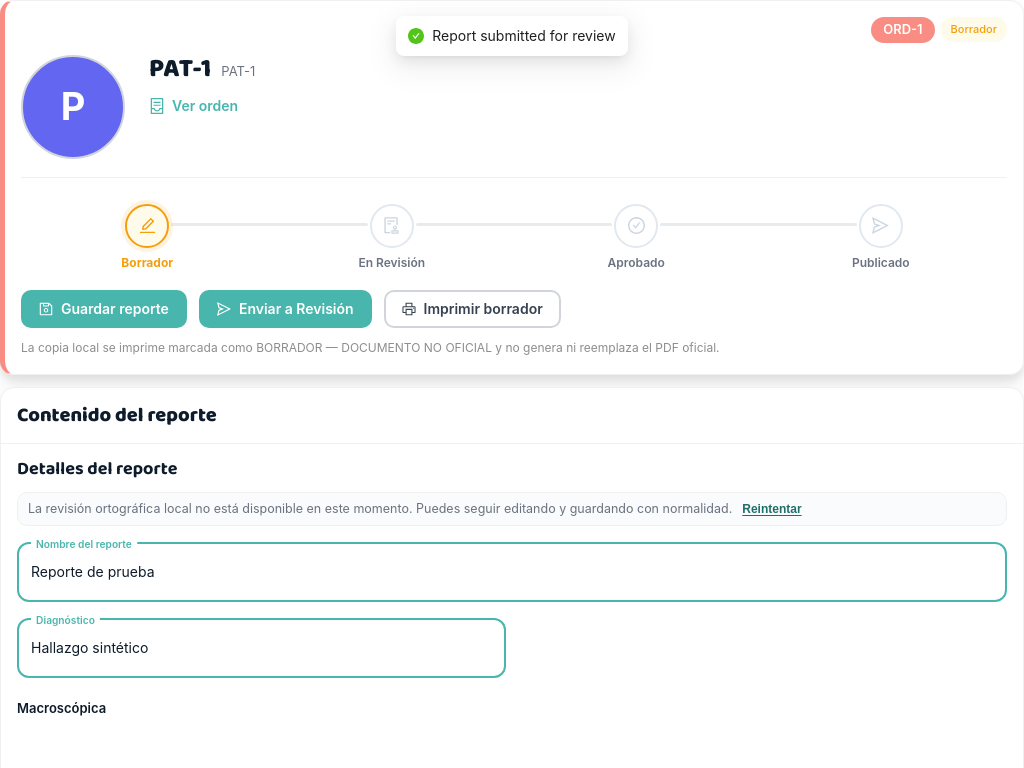
Test case: R4 — the editor re-reads the report after submitting for review › shows the report as IN_REVIEW even if the refresh read fails
The image size is (1024, 768).
Check: the field showing "Reporte de prueba" is shown, box [19, 551, 1005, 593]
Click the button "Enviar a Revisión". click: click(285, 309)
box: [199, 290, 372, 328]
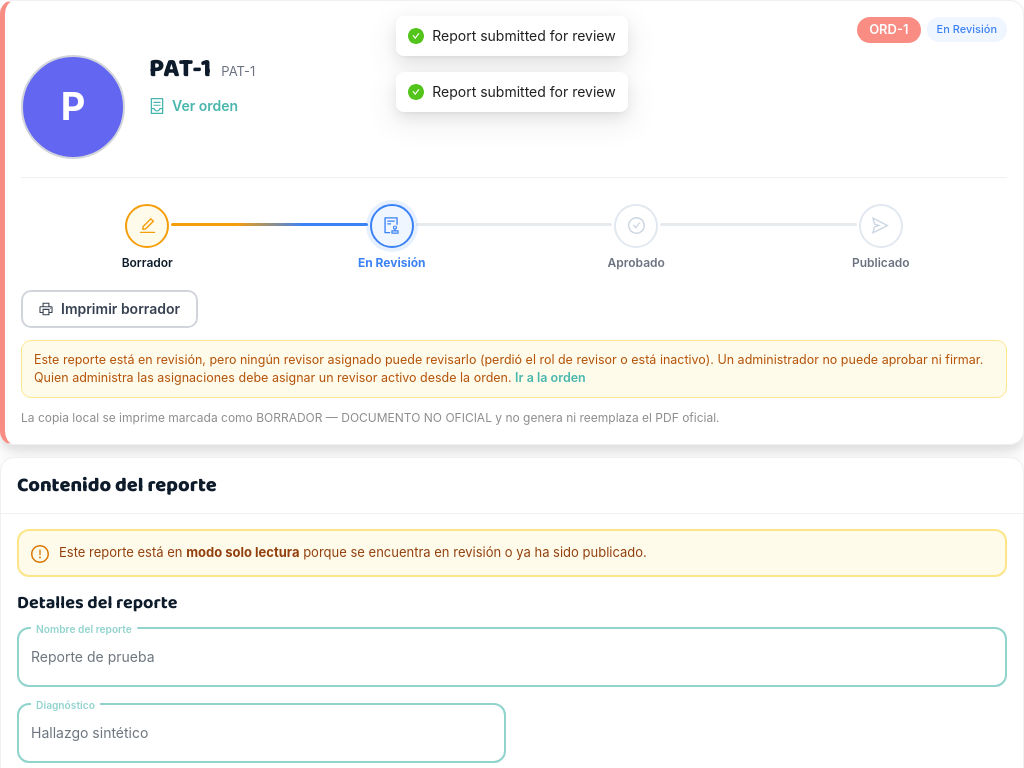
Check: the button "Enviar a Revisión" is gone
